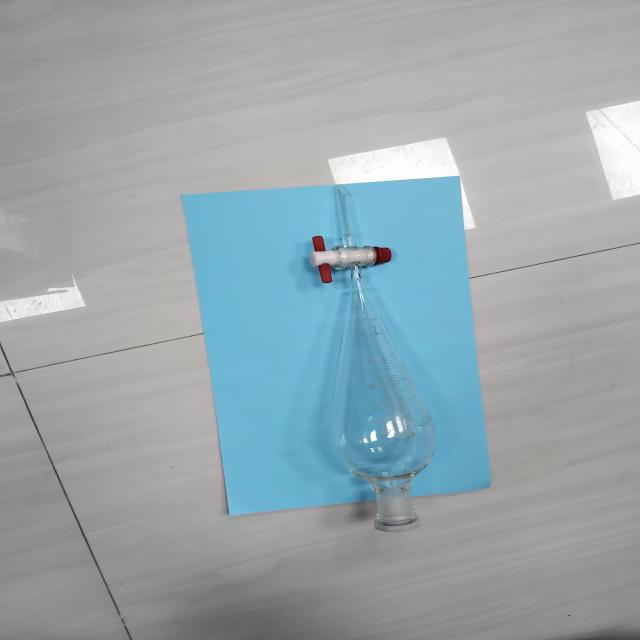Separating_Funnel: (263, 157, 482, 556)
